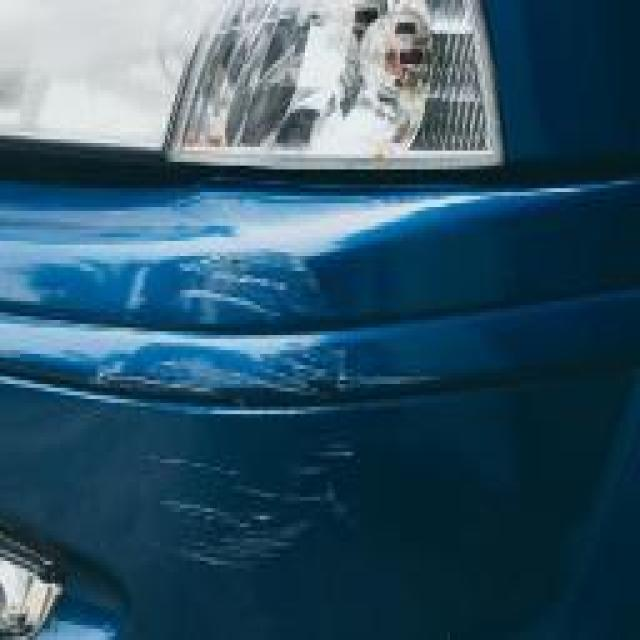Bumper: (50, 177, 420, 591)
